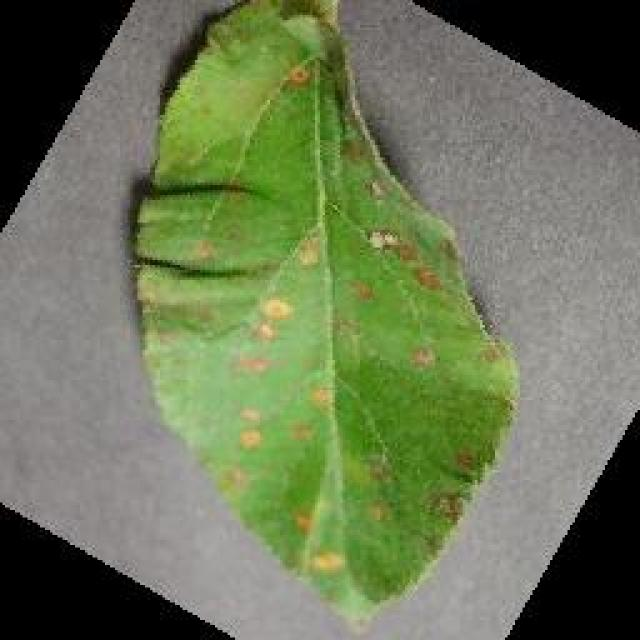apple rust disease: (125, 0, 523, 630)
